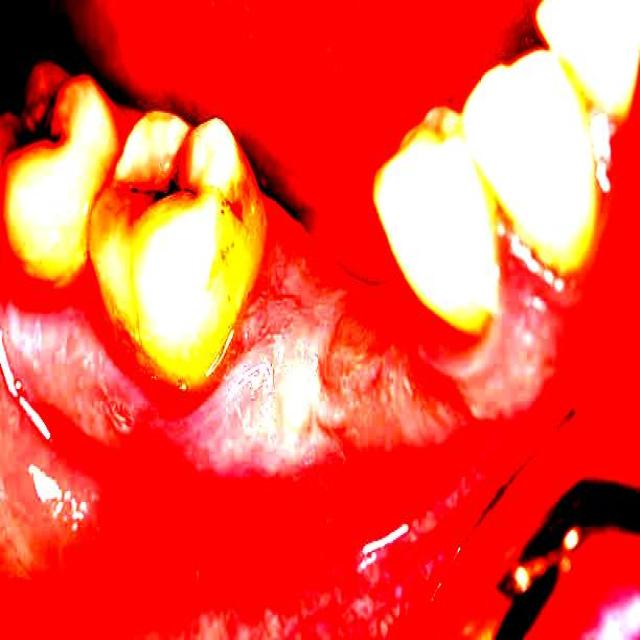caries: (8, 92, 77, 163), (134, 153, 194, 233)
